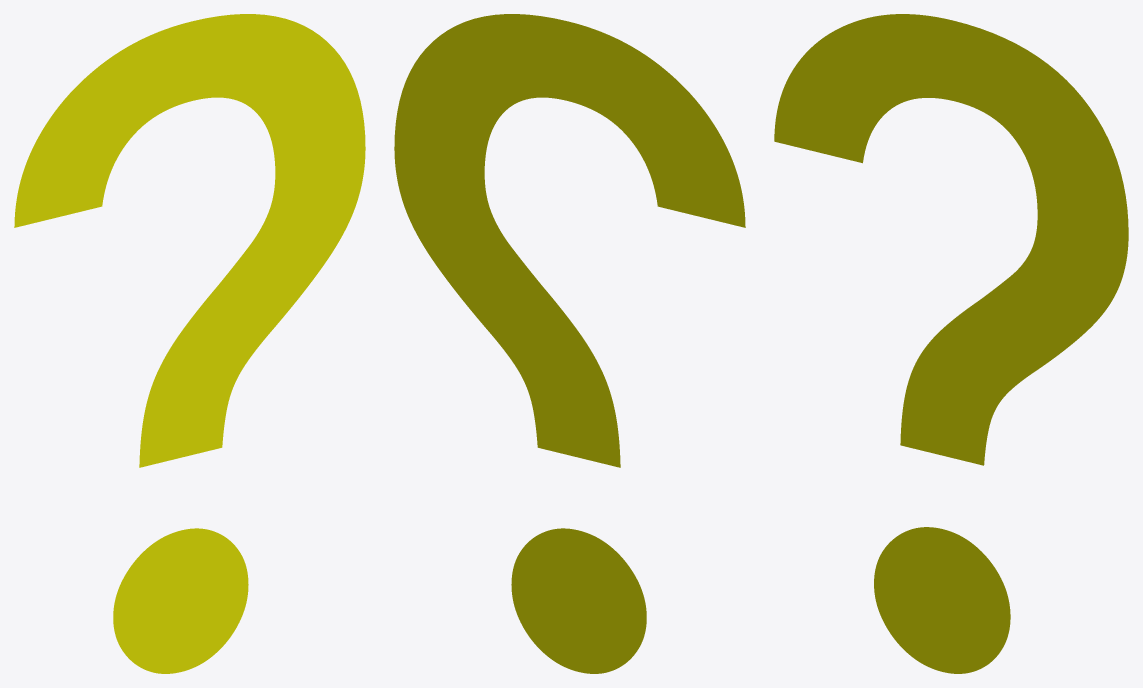
3 renders of one model, left to right at view 1: azimuth 30°, elevation 25°; view 2: azimuth 150°, elevation 25°; view 3: azimuth 330°, elevation 25°, orthographic.
Visible parts, largest first — view 1: Text.1041; view 2: Text.1041; view 3: Text.1041.
Part boxes in pixels (x1=…): Text.1041: x1=14, y1=14, x2=365, y2=673; Text.1041: x1=394, y1=14, x2=745, y2=673; Text.1041: x1=774, y1=14, x2=1128, y2=673.
Size of the model in its own units: 0.576 by 1.02 by 3.6e-06.
